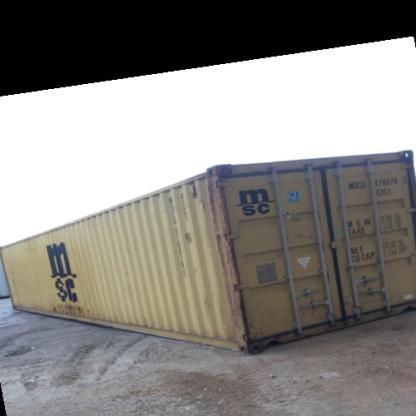Damage: (203, 179, 248, 336), (43, 295, 87, 316), (288, 224, 316, 243), (10, 244, 51, 255), (178, 224, 196, 249), (344, 176, 374, 190), (186, 179, 202, 203), (120, 261, 136, 278)
